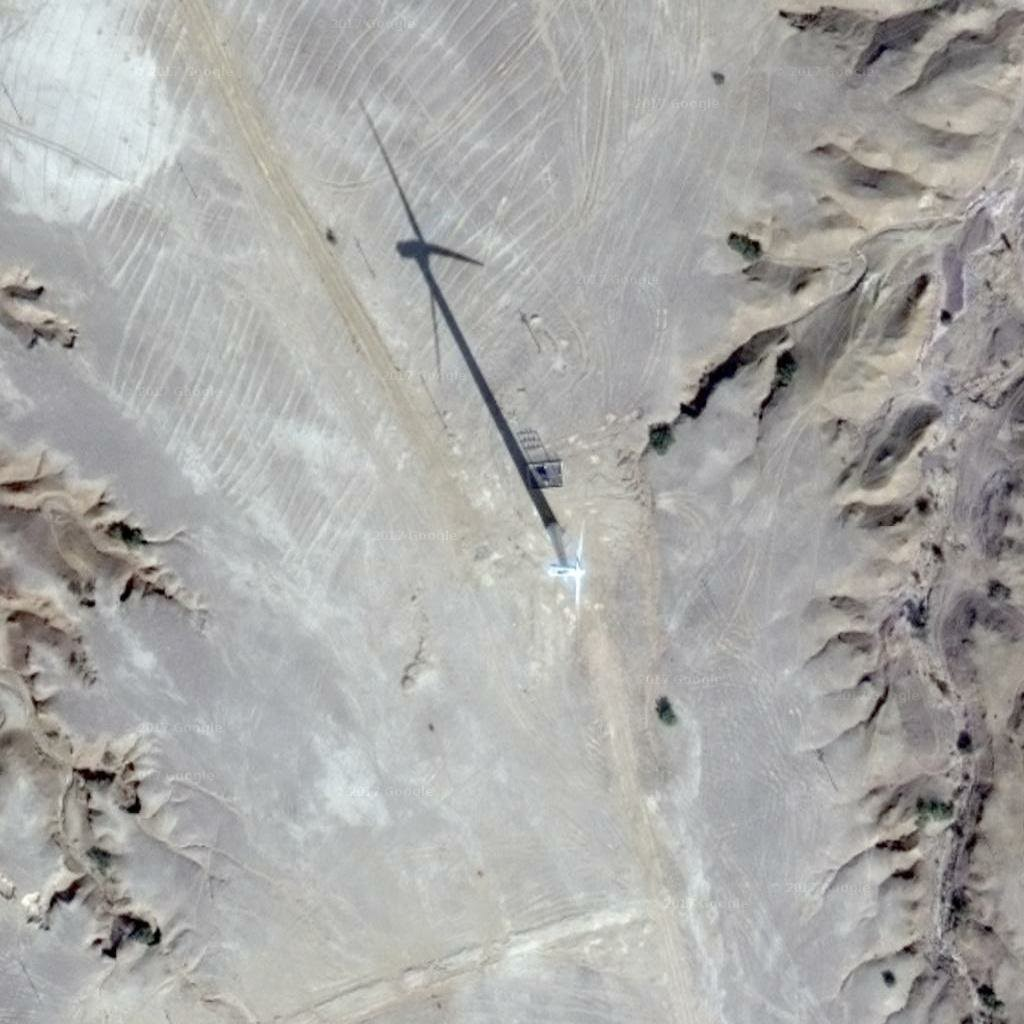Windmill: (352, 99, 564, 524)
